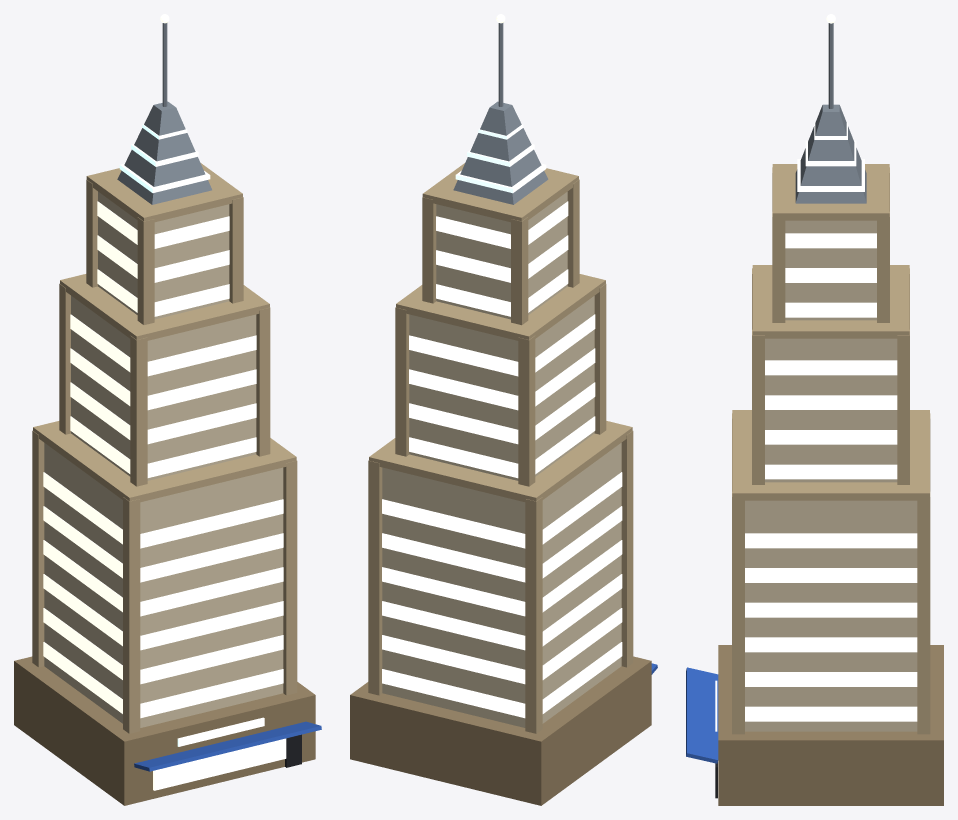
The model's file is ec2-skyscraper.glb.
The picture shows the model from 3 angles, left to right: view 1: azimuth 30°, elevation 25°; view 2: azimuth 150°, elevation 25°; view 3: azimuth 270°, elevation 25°; orthographic projection. The views are drawn at different scales.
Visible parts, largest first — view 1: cw_paint, cw_glow, cw_neon; view 2: cw_paint, cw_glow, cw_neon; view 3: cw_paint, cw_glow, cw_neon.
Part boxes in pixels (box(x1,y1,x2,y2)): cw_paint: box(14, 23, 321, 805); cw_glow: box(43, 14, 286, 790); cw_neon: box(119, 124, 264, 746); cw_paint: box(350, 23, 657, 805); cw_glow: box(382, 14, 622, 718); cw_neon: box(455, 124, 546, 193); cw_paint: box(686, 23, 943, 805); cw_glow: box(718, 14, 917, 782); cw_neon: box(715, 122, 864, 731).
Bounding box in the file's own units: 5.6 × 20.37 × 6.4.
